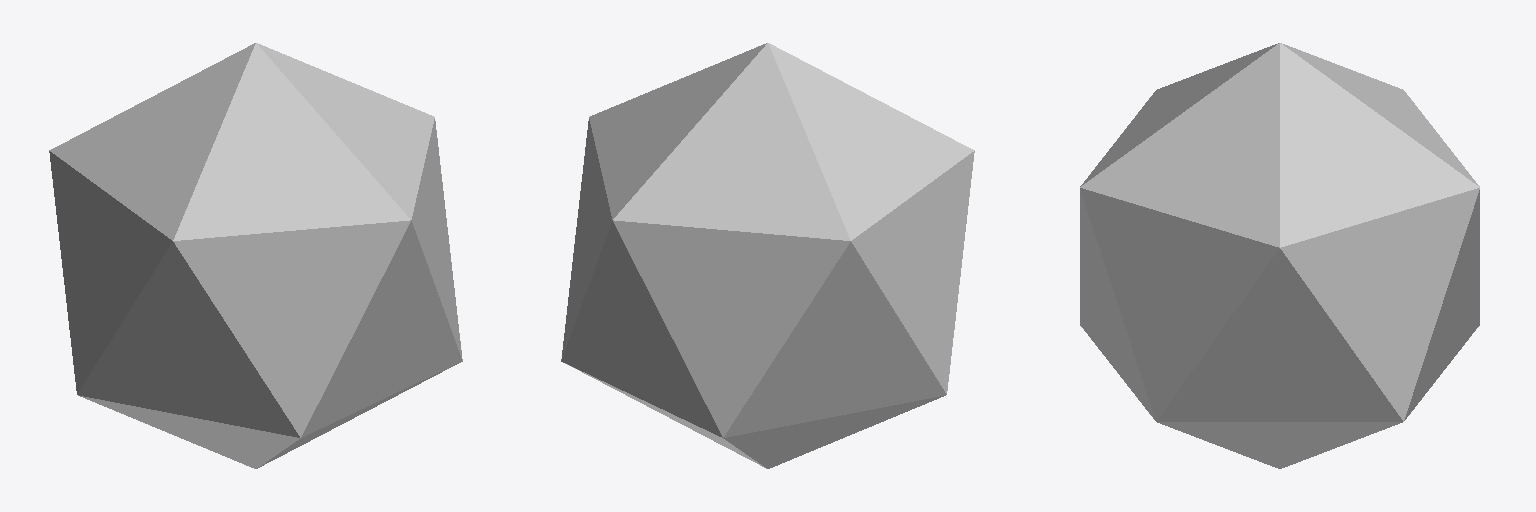
Rendered from ico_sphere.obj.
The picture shows the model from 3 angles: view 1: azimuth 30°, elevation 25°; view 2: azimuth 150°, elevation 25°; view 3: azimuth 270°, elevation 25°; orthographic projection.
Visible parts, largest first — view 1: Icosphere; view 2: Icosphere; view 3: Icosphere.
Part boxes in pixels (bbox=[...]): Icosphere: bbox=[49, 43, 462, 468]; Icosphere: bbox=[561, 43, 974, 468]; Icosphere: bbox=[1080, 43, 1479, 468].
Bounding box in the file's own units: 3 × 3.42 × 2.91.